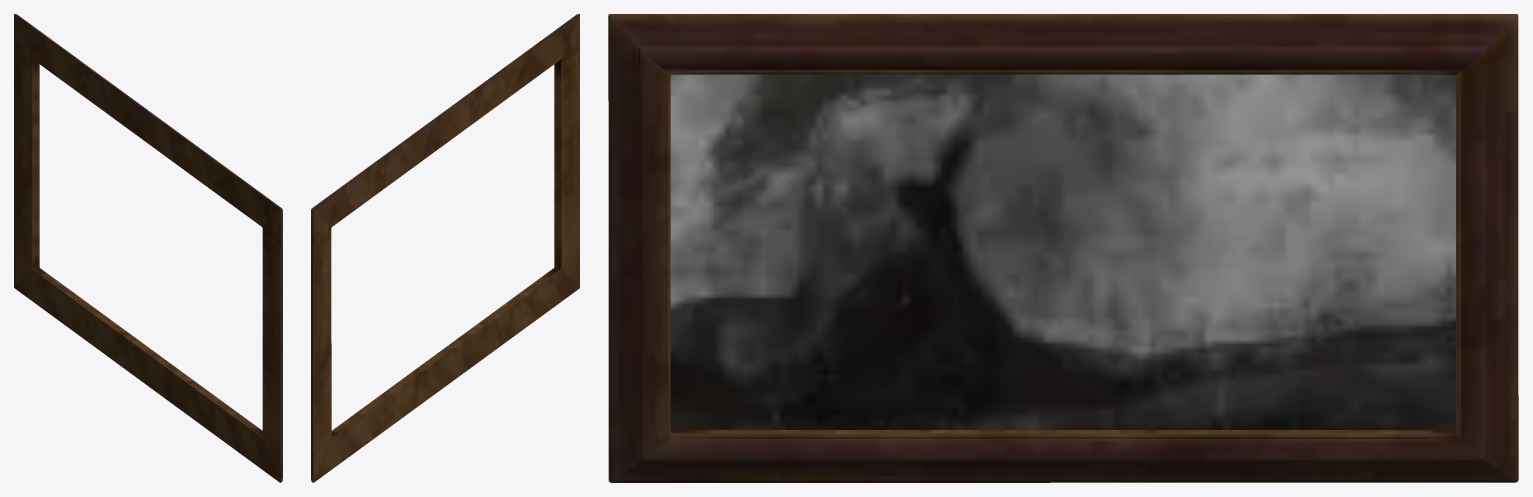
The model's file is paint1.glb.
3 renders of one model, left to right at view 1: azimuth 30°, elevation 25°; view 2: azimuth 150°, elevation 25°; view 3: azimuth 270°, elevation 25°, orthographic. The views are drawn at different scales.
Parts seen in each view (by area): view 1: Frame_Frame_0; view 2: Frame_Frame_0; view 3: Image_Image_0, Frame_Frame_0.
Part boxes in pixels (box(x1,y1,x2,y2)): Frame_Frame_0: box(14, 14, 282, 482); Frame_Frame_0: box(311, 14, 579, 482); Image_Image_0: box(670, 74, 1455, 429); Frame_Frame_0: box(608, 14, 1518, 482).
Size of the model in its own units: 0.0129 by 0.3417 by 0.6019.
2 materials, 2 textured.
